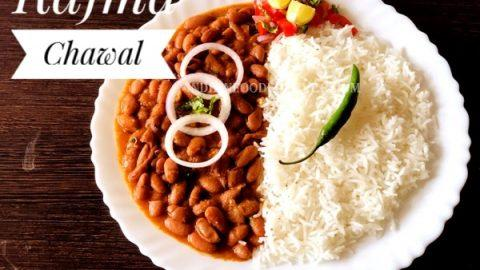rajma: (171, 25, 259, 254)
rice: (276, 45, 439, 259)
